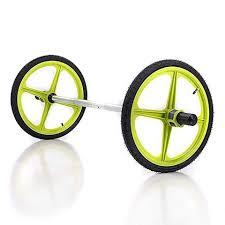Barbell: (187, 110, 203, 130)
